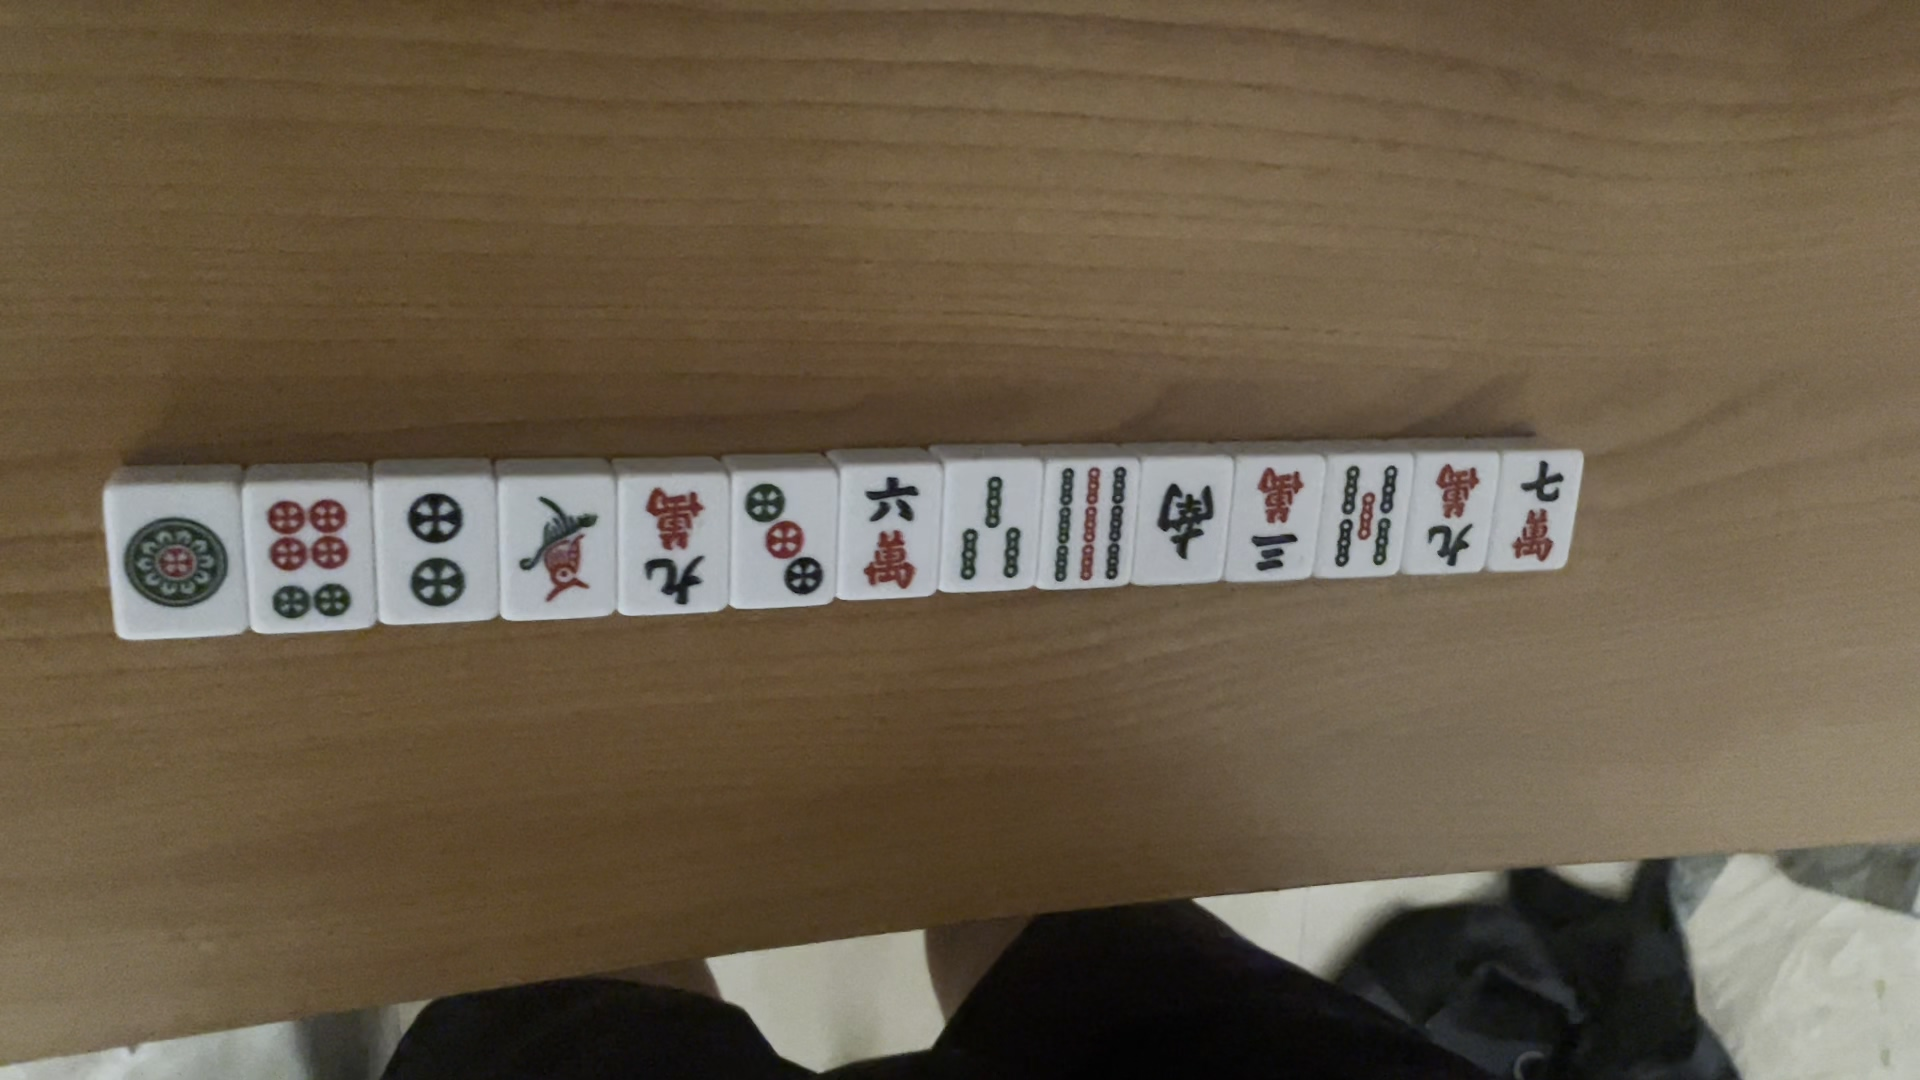b-1: (509, 491, 607, 609)
b-3: (951, 469, 1031, 585)
b-5: (1333, 458, 1396, 579)
b-9: (1044, 458, 1129, 585)
c-3: (1245, 464, 1304, 576)
c-6: (849, 473, 928, 591)
c-7: (1509, 454, 1568, 563)
c-9: (625, 483, 720, 611), (1422, 462, 1484, 572)
d-1: (120, 509, 228, 615)
d-2: (396, 491, 477, 615)
d-3: (738, 479, 831, 603)
d-6: (261, 493, 363, 624)
honors-south: (1141, 479, 1218, 562)
